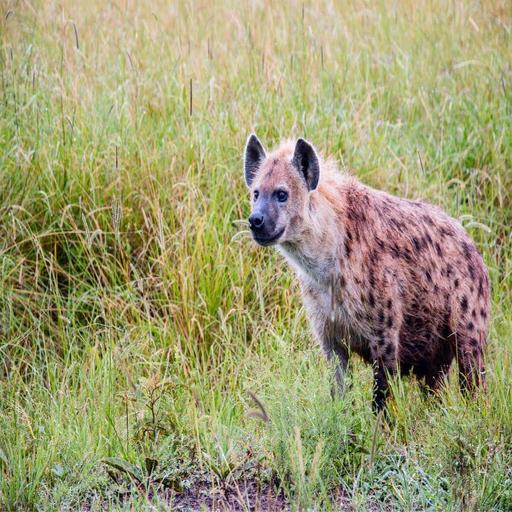Hyena: (240, 128, 496, 449)
